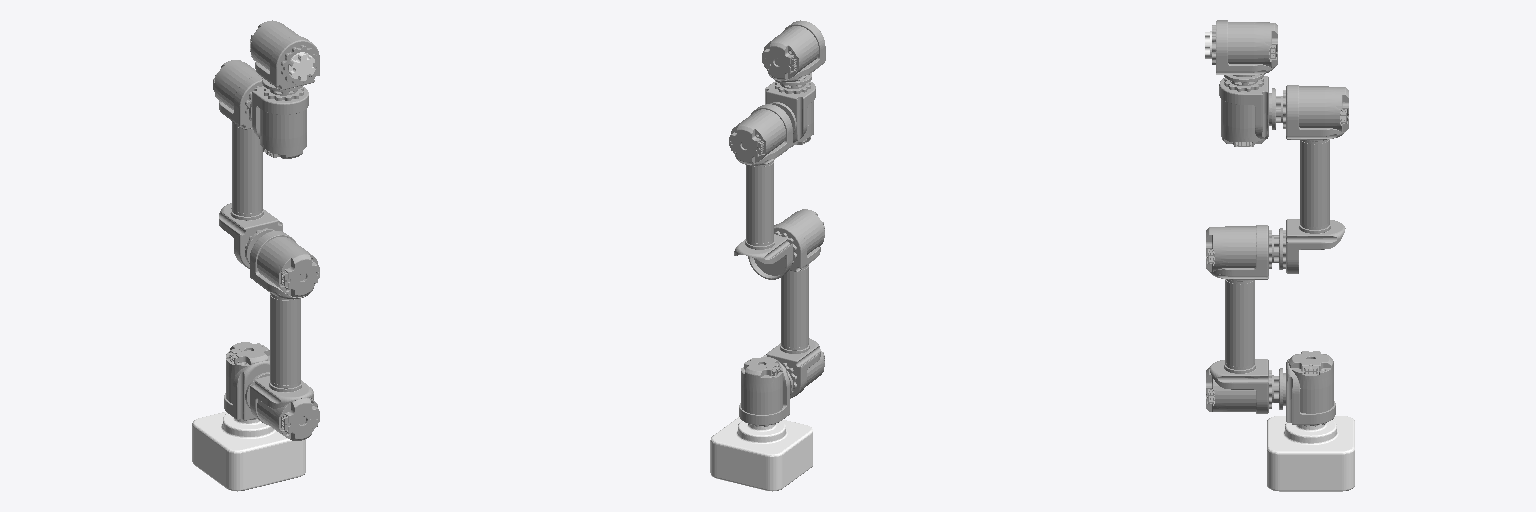
URDF robot description (gluon_6l3_description):
<?xml version="1.0" encoding="utf-8"?>
<!-- This URDF was automatically created by SolidWorks to URDF Exporter! Originally created by [author] ([email redacted]) 
     Commit Version: 1.5.1-0-g916b5db  Build Version: 1.5.7152.31018
     For more information, please see http://wiki.ros.org/sw_urdf_exporter -->
<robot
  name="gluon_6l3_description">
  <material name="Orange">
    <color rgba="1.0 0.423529411765 0.0392156862745 1.0"/>
  </material>
  <material name="Green">
    <color rgba="0.0 0.8 0.0 1.0"/>
  </material>
  
  <link name="world" />
  <joint name="world_joint" type="fixed">
    <parent link="world" />
    <child link = "base_link" />
    <origin xyz="0.0 0.0 0.0" rpy="3.1415926536 3.1415926536 0.0" />
  </joint>
  <!-- ROS base_link to ROCR6 'Base' Coordinates transform -->
    <link name="base"/>
    <joint name="base_link-base_fixed_joint" type="fixed">
      <!-- NOTE: this rotation is only needed as long as base_link itself is
                 not corrected wrt the real robot (ie: rotated over 180
                 degrees)
      -->
      <origin xyz="0 0 0" rpy="0 0 -3.1415926536"/>
      <parent link="base_link"/>
      <child link="base"/>
    </joint>
  <link
    name="base_link">
    <inertial>
      <origin
        xyz="6.00214302719138E-11 -2.03592043663259E-18 0.0271404483614374"
        rpy="0 0 0" />
      <mass
        value="0.524001417146026" />
      <inertia
        ixx="0.000535467122847014"
        ixy="5.80561098039657E-10"
        ixz="1.91837356095828E-11"
        iyy="0.000535467082580035"
        iyz="5.33104892292796E-20"
        izz="0.000799852045598815" />
    </inertial>
    <visual>
      <origin
        xyz="0 0 0"
        rpy="0 0 0" />
      <geometry>
        <mesh
          filename="package://gluon_6l3_description/meshes/base_link.STL" />
      </geometry>
      <material
        name="">
        <color
          rgba="1 1 1 1" />
		<texture
          filename="package://gluon_6l3_description/textures/0.png" />
      </material>
    </visual>
    <collision>
      <origin
        xyz="0 0 0"
        rpy="0 0 0" />
      <geometry>
        <mesh
          filename="package://gluon_6l3_description/meshes/base_link.STL" />
      </geometry>
    </collision>
  </link>
  <link
    name="shoulder_link">
    <inertial>
      <origin
        xyz="6.4504988678293E-06 0.0138491130559665 -0.0114038936020913"
        rpy="0 0 0" />
      <mass
        value="0.0820185009306671" />
      <inertia
        ixx="3.02771647844208E-05"
        ixy="4.98647342619796E-10"
        ixz="1.02799620338453E-09"
        iyy="3.14768364536352E-05"
        iyz="-7.94964924528223E-06"
        izz="2.79887356737968E-05" />
    </inertial>
    <visual>
      <origin
        xyz="0 0 0"
        rpy="0 0 0" />
      <geometry>
        <mesh
          filename="package://gluon_6l3_description/meshes/shoulder_link.STL" />
      </geometry>
      <material
        name="">
        <color
          rgba="0.752941176470588 0.752941176470588 0.752941176470588 1" />
		<texture
          filename="package://gluon_6l3_description/textures/1.png" />
      </material>
    </visual>
    <collision>
      <origin
        xyz="0 0 0"
        rpy="0 0 0" />
      <geometry>
        <mesh
          filename="package://gluon_6l3_description/meshes/shoulder_link.STL" />
      </geometry>
    </collision>
  </link>
  <joint
    name="shoulder_pan_joint"
    type="revolute">
    <origin
      xyz="0 0 0.10503"
      rpy="0 0 0" />
    <parent
      link="base_link" />
    <child
      link="shoulder_link" />
    <axis
      xyz="0 0 1" />
    <limit
      lower="-3.14"
      upper="3.14"
      effort="150"
      velocity="3.15" />
  </joint>
  <link
    name="upper_arm_link">
    <inertial>
      <origin
        xyz="5.76283818191725E-17 -0.00796192925635632 0.0872101279339996"
        rpy="0 0 0" />
      <mass
        value="0.23495065778678" />
      <inertia
        ixx="0.000149085261775553"
        ixy="-1.19688965699115E-19"
        ixz="-9.97294685179312E-10"
        iyy="0.000144508403554305"
        iyz="-1.30432354342531E-19"
        izz="7.22034259223348E-05" />
    </inertial>
    <visual>
      <origin
        xyz="0 0 0"
        rpy="0 0 0" />
      <geometry>
        <mesh
          filename="package://gluon_6l3_description/meshes/upper_arm_link.STL" />
      </geometry>
      <material
        name="">
        <color
          rgba="0.752941176470588 0.752941176470588 0.752941176470588 1" />
		<texture
          filename="package://gluon_6l3_description/textures/2.png" />
      </material>
    </visual>
    <collision>
      <origin
        xyz="0 0 0"
        rpy="0 0 0" />
      <geometry>
        <mesh
          filename="package://gluon_6l3_description/meshes/upper_arm_link.STL" />
      </geometry>
    </collision>
  </link>
  <joint
    name="shoulder_lift_joint"
    type="revolute">
    <origin
      xyz="0 0.080088 0"
      rpy="0 0 0" />
    <parent
      link="shoulder_link" />
    <child
      link="upper_arm_link" />
    <axis
      xyz="0 1 0" />
    <limit
      lower="-3.14"
      upper="3.14"
      effort="150"
      velocity="3.15" />
  </joint>
  <link
    name="forearm_link">
    <inertial>
      <origin
        xyz="-2.28721263676364E-06 0.0110440131133395 0.0921174993010334"
        rpy="0 0 0" />
      <mass
        value="0.238894459849097" />
      <inertia
        ixx="0.000149170706200484"
        ixy="3.25881137569095E-10"
        ixz="1.00738300511502E-09"
        iyy="0.000144556914762174"
        iyz="3.04659433394445E-10"
        izz="7.22747674688485E-05" />
    </inertial>
    <visual>
      <origin
        xyz="0 0 0"
        rpy="0 0 0" />
      <geometry>
        <mesh
          filename="package://gluon_6l3_description/meshes/forearm_link.STL" />
      </geometry>
      <material
        name="">
        <color
          rgba="0.752941176470588 0.752941176470588 0.752941176470588 1" />
		<texture
          filename="package://gluon_6l3_description/textures/3.png" />
      </material>
    </visual>
    <collision>
      <origin
        xyz="0 0 0"
        rpy="0 0 0" />
      <geometry>
        <mesh
          filename="package://gluon_6l3_description/meshes/forearm_link.STL" />
      </geometry>
    </collision>
  </link>
  <joint
    name="elbow_joint"
    type="revolute">
    <origin
      xyz="0 -0.084515 0.17442"
      rpy="0 0 0" />
    <parent
      link="upper_arm_link" />
    <child
      link="forearm_link" />
    <axis
      xyz="0 1 0" />
    <limit
      lower="-3.14"
      upper="3.14"
      effort="150"
      velocity="3.15" />
  </joint>
  <link
    name="wrist_1_link">
    <inertial>
      <origin
        xyz="6.4504988676471E-06 0.0707765705043197 0.0153497230747068"
        rpy="0 0 0" />
      <mass
        value="0.082018500930667" />
      <inertia
        ixx="3.02771647844206E-05"
        ixy="-4.98647342150018E-10"
        ixz="-1.02799620384103E-09"
        iyy="3.11501379832757E-05"
        iyz="-7.94964924528221E-06"
        izz="2.83154341441561E-05" />
    </inertial>
    <visual>
      <origin
        xyz="0 0 0"
        rpy="0 0 0" />
      <geometry>
        <mesh
          filename="package://gluon_6l3_description/meshes/wrist_1_link.STL" />
      </geometry>
      <material
        name="">
        <color
          rgba="0.752941176470588 0.752941176470588 0.752941176470588 1" />
		<texture
          filename="package://gluon_6l3_description/textures/4.png" />
      </material>
    </visual>
    <collision>
      <origin
        xyz="0 0 0"
        rpy="0 0 0" />
      <geometry>
        <mesh
          filename="package://gluon_6l3_description/meshes/wrist_1_link.STL" />
      </geometry>
    </collision>
  </link>
  <joint
    name="wrist_1_joint"
    type="revolute">
    <origin
      xyz="0 0 0.17442"
      rpy="0 0 0" />
    <parent
      link="forearm_link" />
    <child
      link="wrist_1_link" />
    <axis
      xyz="0 1 0" />
    <limit
      lower="-3.14"
      upper="3.14"
      effort="28"
      velocity="3.2" />
  </joint>
  <link
    name="wrist_2_link">
    <inertial>
      <origin
        xyz="-7.2147559877832E-06 0.0127550304764162 0.0696733807918641"
        rpy="0 0 0" />
      <mass
        value="0.0733303036590749" />
      <inertia
        ixx="2.96845482915175E-05"
        ixy="1.02799620365497E-09"
        ixz="4.98647342585307E-10"
        iyy="2.73961191808933E-05"
        iyz="-7.94964924528226E-06"
        izz="3.05575214903725E-05" />
    </inertial>
    <visual>
      <origin
        xyz="0 0 0"
        rpy="0 0 0" />
      <geometry>
        <mesh
          filename="package://gluon_6l3_description/meshes/wrist_2_link.STL" />
      </geometry>
      <material
        name="">
        <color
          rgba="0.752941176470588 0.752941176470588 0.752941176470588 1" />
		<texture
          filename="package://gluon_6l3_description/textures/5.png" />
      </material>
    </visual>
    <collision>
      <origin
        xyz="0 0 0"
        rpy="0 0 0" />
      <geometry>
        <mesh
          filename="package://gluon_6l3_description/meshes/wrist_2_link.STL" />
      </geometry>
    </collision>
  </link>
  <joint
    name="wrist_2_joint"
    type="revolute">
    <origin
      xyz="0 0.080088 0"
      rpy="0 0 0" />
    <parent
      link="wrist_1_link" />
    <child
      link="wrist_2_link" />
    <axis
      xyz="0 0 1" />
    <limit
      lower="-3.14"
      upper="3.14"
      effort="28"
      velocity="3.2" />
  </joint>
  <link
    name="wrist_3_link">
    <inertial>
      <origin
        xyz="5.16911893705007E-18 0.0372485016118171 -1.11022302462516E-16"
        rpy="0 0 0" />
      <mass
        value="0.0086881972715925" />
      <inertia
        ixx="5.92616492903874E-07"
        ixy="-1.90251559713552E-22"
        ixz="-2.11657278394925E-19"
        iyy="9.19314963262971E-07"
        iyz="-1.43193395727718E-23"
        izz="5.92616492903025E-07" />
    </inertial>
    <visual>
      <origin
        xyz="0 0 0"
        rpy="0 0 0" />
      <geometry>
        <mesh
          filename="package://gluon_6l3_description/meshes/wrist_3_link.STL" />
      </geometry>
      <material
        name="">
        <color
          rgba="1 1 1 1" />
		<texture
          filename="package://gluon_6l3_description/textures/6.png" />
      </material>
    </visual>
    <collision>
      <origin
        xyz="0 0 0"
        rpy="0 0 0" />
      <geometry>
        <mesh
          filename="package://gluon_6l3_description/meshes/wrist_3_link.STL" />
      </geometry>
    </collision>
  </link>
  <joint
    name="wrist_3_joint"
    type="revolute">
    <origin
      xyz="0 0 0.080088"
      rpy="0 0 0" />
    <parent
      link="wrist_2_link" />
    <child
      link="wrist_3_link" />
    <axis
      xyz="0 1 0" />
    <limit
      lower="-3.14"
      upper="3.14"
      effort="28"
      velocity="3.2" />
  </joint>
  <!--new add content -->
  <joint name="ee_fixed_joint" type="fixed">
    <parent link="wrist_3_link"/>
    <child link="ee_link"/>
    <origin rpy="0.0 0.0 1.57079632679" xyz="0.0 0.04436 0.0"/>
  </joint>
  <link name="ee_link">
    <collision>
      <geometry>
        <box size="0.01 0.01 0.01"/>
      </geometry>
      <origin rpy="0 0 0" xyz="-0.01 0 0"/>
    </collision>
  </link>
	
      <!-- Frame coincident with all-zeros TCP on ROCR6 controller -->
  <link name="tool0"/>
  <joint name="wrist_3_link-tool0_fixed_joint" type="fixed">
    <origin rpy="-1.57079632679 0 0" xyz="0 0.04436 0"/>
    <parent link="wrist_3_link"/>
    <child link="tool0"/>
  </joint>
</robot>

--- Facts derived from the render (not from the file) ---
3 views of the same robot in one strip: view 1: azimuth 30°, elevation 25°; view 2: azimuth 150°, elevation 25°; view 3: azimuth 270°, elevation 25° (orthographic).
Robot: gluon_6l3_description — 11 links, 10 joints (6 revolute, 4 fixed); root link world; default pose: every joint at zero.
Links seen in each view (by area): view 1: upper_arm_link, forearm_link, base_link, wrist_1_link, wrist_2_link, shoulder_link, wrist_3_link; view 2: forearm_link, base_link, upper_arm_link, shoulder_link, wrist_2_link, wrist_1_link; view 3: upper_arm_link, forearm_link, base_link, shoulder_link, wrist_2_link, wrist_1_link.
Boxes of the visible links, <box> form: upper_arm_link: <box>250,231,319,440</box>; forearm_link: <box>213,60,282,268</box>; base_link: <box>192,412,305,491</box>; wrist_1_link: <box>249,86,308,158</box>; wrist_2_link: <box>250,20,319,91</box>; shoulder_link: <box>224,342,269,420</box>; wrist_3_link: <box>288,52,315,80</box>; forearm_link: <box>729,104,792,279</box>; base_link: <box>710,417,812,491</box>; upper_arm_link: <box>763,209,824,398</box>; shoulder_link: <box>739,357,792,426</box>; wrist_2_link: <box>762,20,825,85</box>; wrist_1_link: <box>765,81,815,146</box>; upper_arm_link: <box>1206,225,1271,413</box>; forearm_link: <box>1272,85,1348,273</box>; base_link: <box>1267,416,1354,491</box>; shoulder_link: <box>1272,351,1335,426</box>; wrist_2_link: <box>1212,20,1277,82</box>; wrist_1_link: <box>1219,76,1275,146</box>.
Size in the robot's own frame: 0.1 by 0.17 by 0.5618 metres.
7 mesh visuals loaded from 7 distinct referenced files (7 binary STL).
